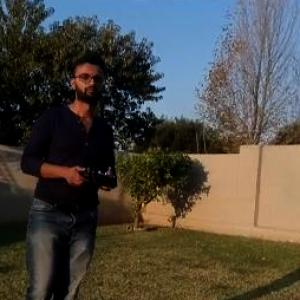follow: (16, 40, 126, 299)
